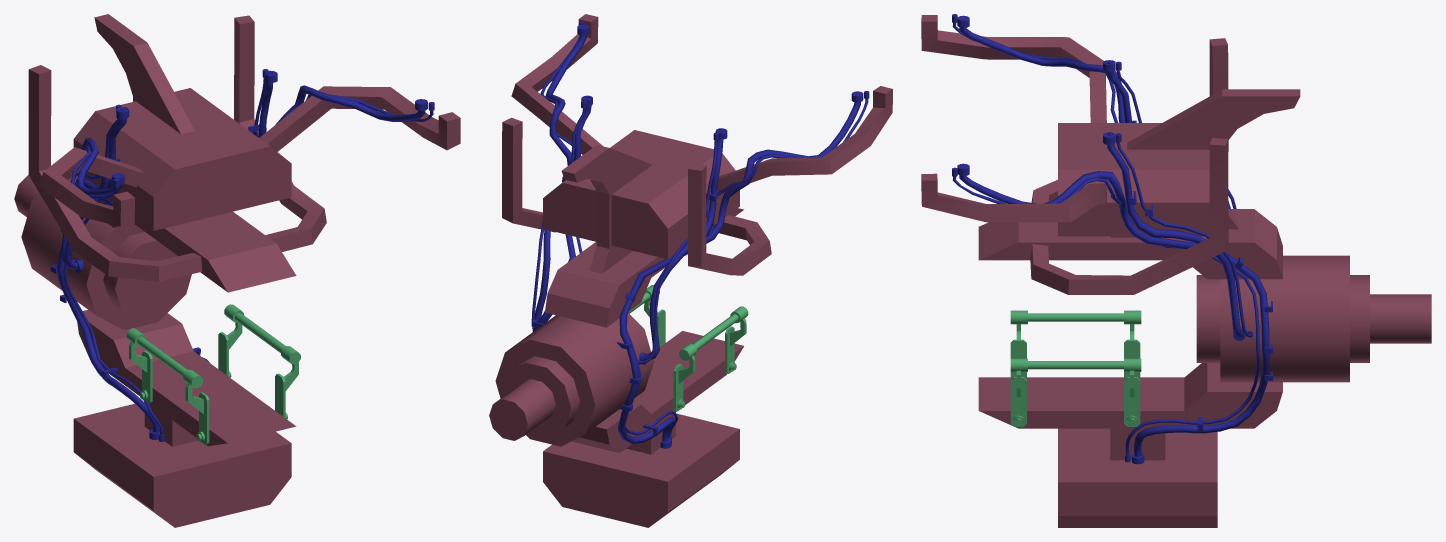
The model's file is mech 2 dynamic lod0.FBX.
3 renders of one model, left to right at view 1: azimuth 30°, elevation 25°; view 2: azimuth 150°, elevation 25°; view 3: azimuth 270°, elevation 25°, orthographic. The views are drawn at different scales.
Visible parts, largest first — view 1: Object040; view 2: Object040; view 3: Object040.
Boxes of the visible parts, <box> form: Object040: <box>14,14,460,527</box>; Object040: <box>489,14,892,527</box>; Object040: <box>921,14,1431,527</box>.
Bounding box in the file's own units: 2.31 × 2.57 × 2.88.
